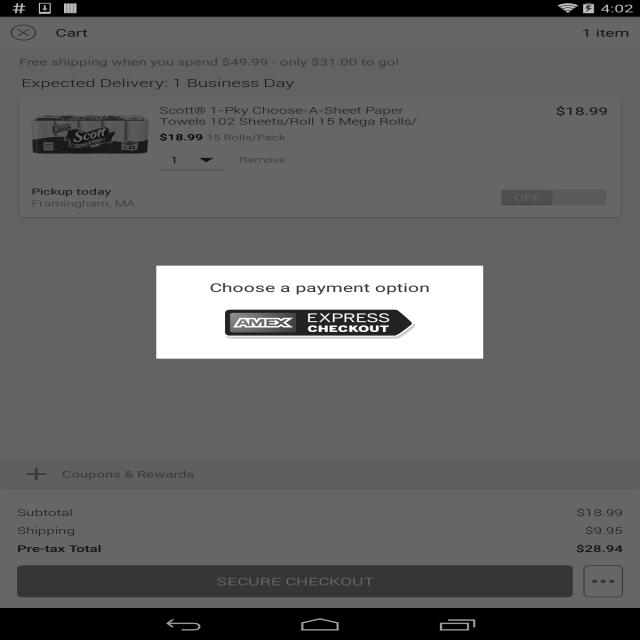Button: (11, 562, 578, 599), (585, 562, 628, 599)
ImageButton: (6, 23, 39, 42)
ImageView: (222, 310, 415, 340), (30, 114, 152, 157)
Switch: (498, 186, 612, 208)
TextView: (155, 104, 430, 130), (204, 278, 434, 298), (17, 76, 302, 90), (27, 186, 139, 212), (553, 105, 617, 118), (578, 26, 635, 40), (52, 25, 91, 42)
